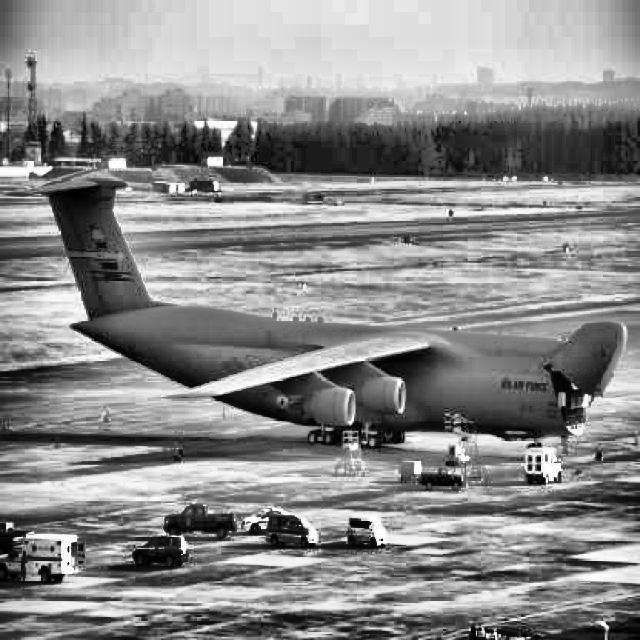C5: (5, 178, 628, 450)
